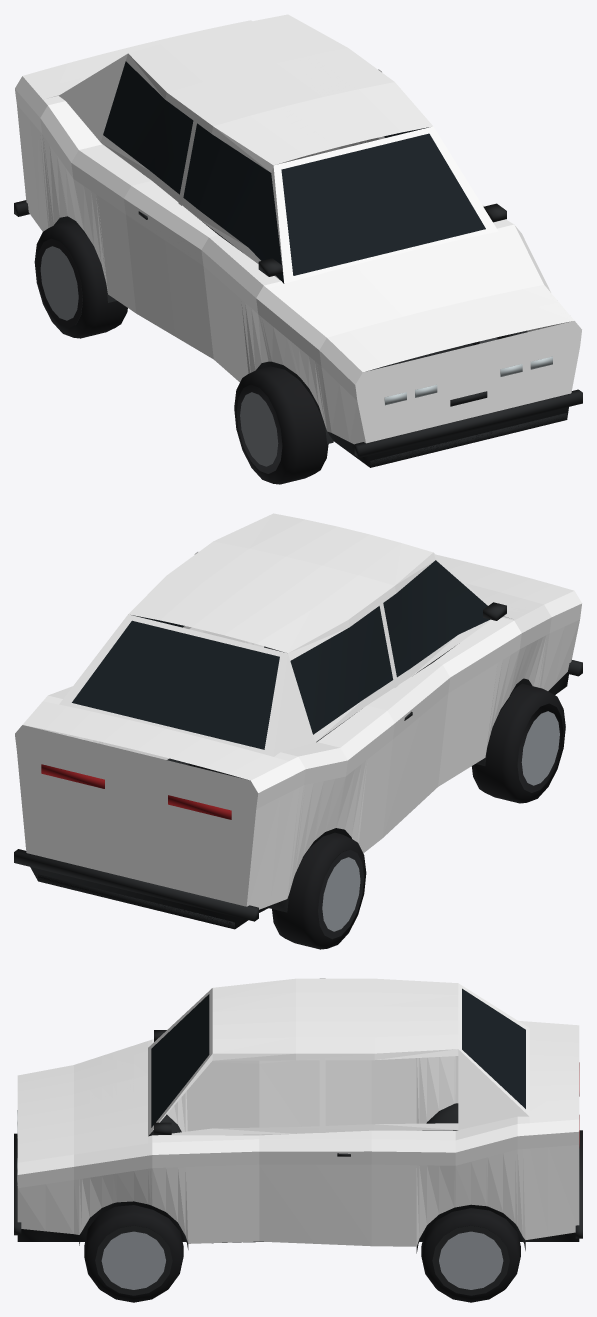
Rendered from ridgeway_ermo.glb.
3 renders of one model, top to bottom at view 1: azimuth 30°, elevation 25°; view 2: azimuth 150°, elevation 25°; view 3: azimuth 270°, elevation 25°, orthographic. The views are drawn at different scales.
Visible parts, largest first — view 1: Body_Paint, Body_Details, Mount_FrontLeft_Wheel_Details, Mount_RearLeft_Wheel_Details; view 2: Body_Paint, Body_Details, Mount_FrontLeft_Wheel_Details, Mount_RearLeft_Wheel_Details; view 3: Body_Paint, Body_Details, Mount_FrontRight_Wheel_Details, Mount_RearRight_Wheel_Details.
Part boxes in pixels (<box>): Body_Paint: <box>15,14,581,444</box>; Body_Details: <box>14,61,582,467</box>; Mount_FrontLeft_Wheel_Details: <box>234,366,328,484</box>; Mount_RearLeft_Wheel_Details: <box>34,221,127,338</box>; Body_Paint: <box>15,513,581,909</box>; Body_Details: <box>14,560,582,929</box>; Mount_FrontLeft_Wheel_Details: <box>471,683,565,803</box>; Mount_RearLeft_Wheel_Details: <box>272,832,366,949</box>; Body_Paint: <box>17,978,579,1246</box>; Body_Details: <box>14,988,582,1253</box>; Mount_FrontRight_Wheel_Details: <box>84,1205,183,1302</box>; Mount_RearRight_Wheel_Details: <box>421,1208,520,1302</box>.
Bounding box in the file's own units: 2.05 × 1.92 × 4.24.
Materials: 2 (1 with a texture image).
